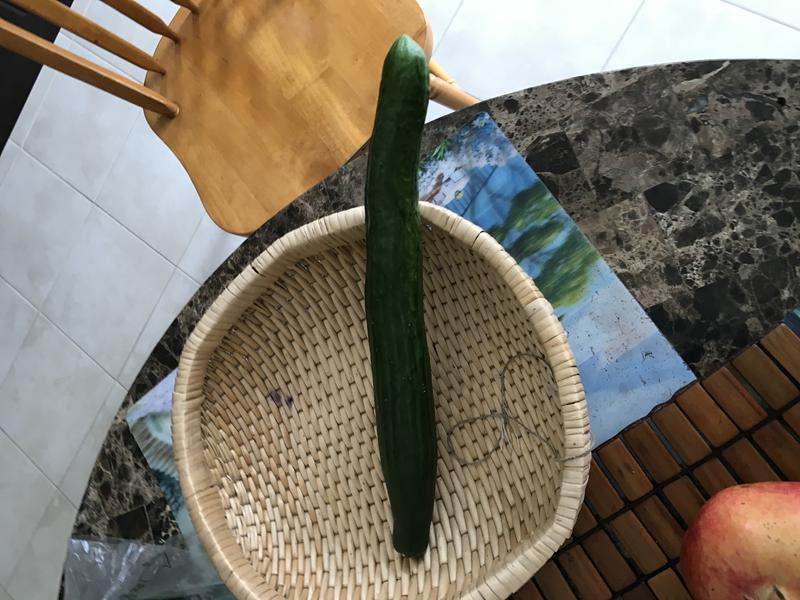cucumber: (358, 25, 450, 574)
